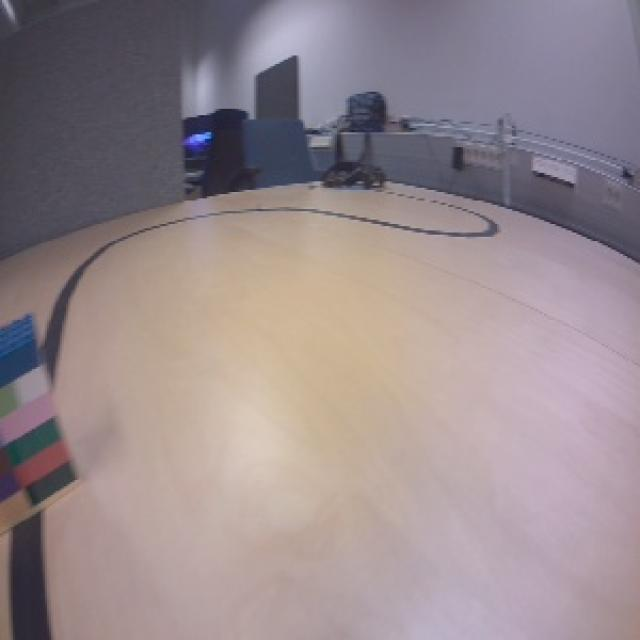obstacle: (1, 308, 87, 542)
